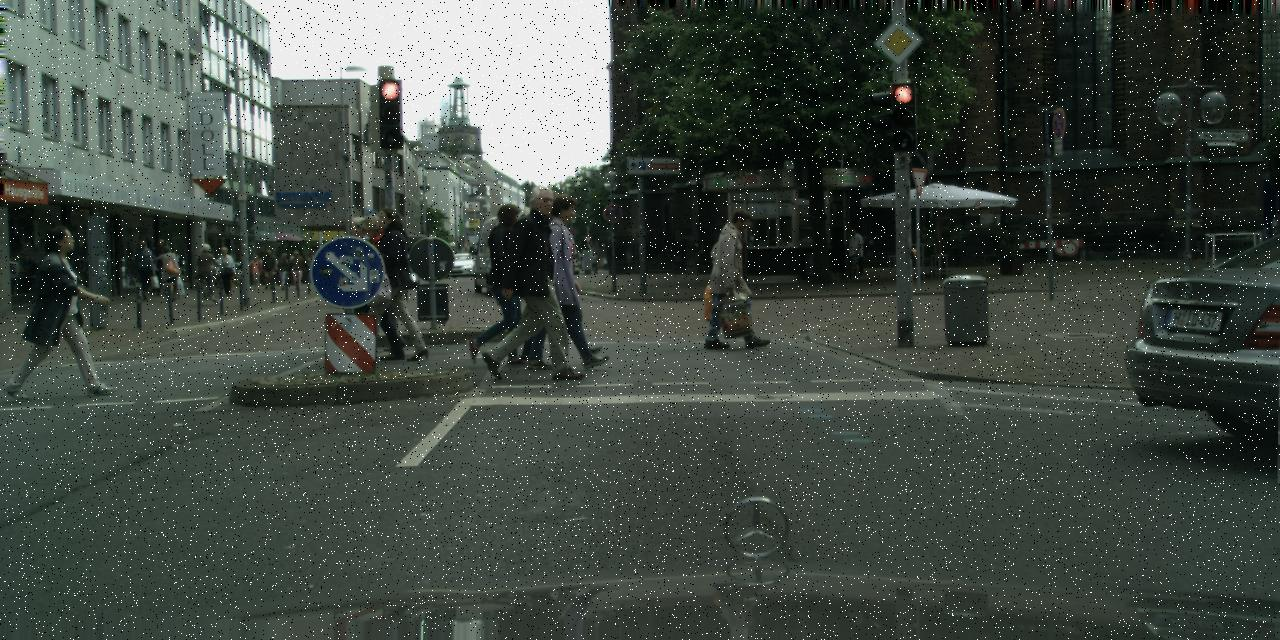ped: (496, 185, 573, 374), (531, 193, 602, 366), (24, 225, 94, 394), (471, 202, 535, 362), (522, 206, 585, 361), (357, 208, 418, 358), (342, 214, 401, 358), (710, 208, 766, 348), (341, 215, 396, 349), (130, 240, 154, 300), (158, 244, 180, 300), (196, 242, 218, 296), (843, 226, 864, 278), (216, 247, 235, 296), (288, 250, 304, 290), (260, 249, 276, 289), (276, 252, 291, 289), (248, 254, 262, 290), (150, 261, 162, 296), (148, 238, 166, 258), (173, 247, 183, 271), (302, 253, 314, 271), (590, 252, 598, 271), (602, 258, 607, 270), (177, 292, 182, 300), (288, 256, 293, 260), (163, 292, 168, 295)
